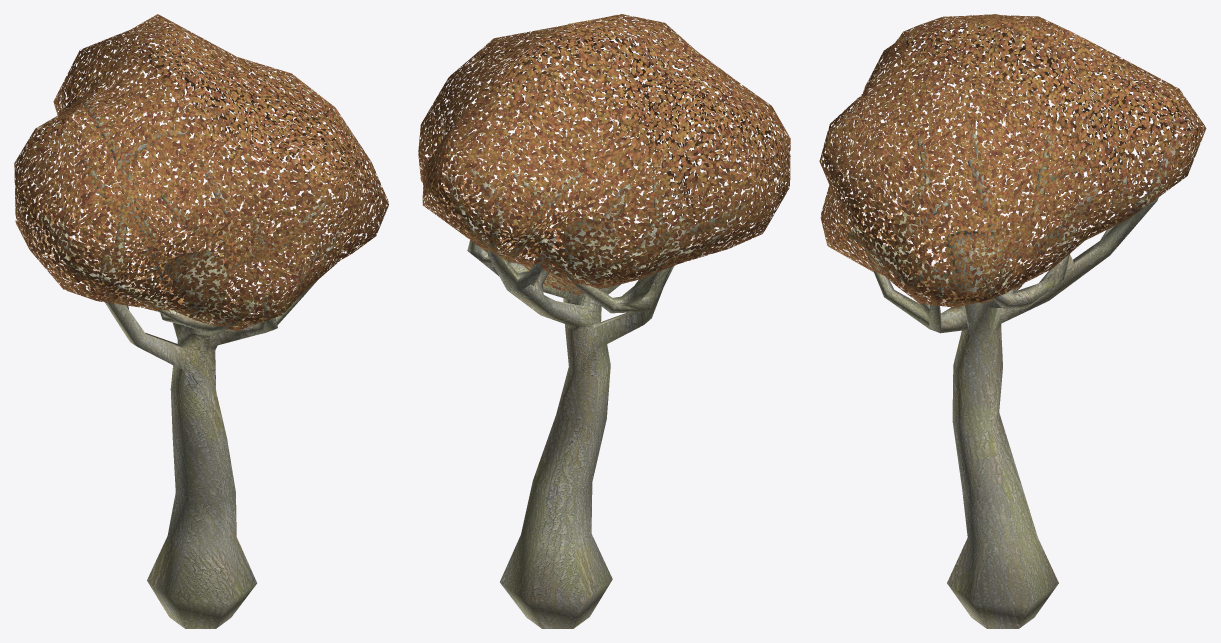
Rendered from tree.fbx.
The picture shows the model from 3 angles, left to right: view 1: azimuth 30°, elevation 25°; view 2: azimuth 150°, elevation 25°; view 3: azimuth 270°, elevation 25°; orthographic projection. The views are drawn at different scales.
Visible parts, largest first — view 1: Leaves, Trunk; view 2: Leaves, Trunk; view 3: Leaves, Trunk.
Boxes of the visible parts, x1=… form: Leaves: x1=14, y1=14, x2=388, y2=331; Trunk: x1=40, y1=98, x2=345, y2=628; Leaves: x1=418, y1=14, x2=790, y2=294; Trunk: x1=444, y1=162, x2=746, y2=628; Leaves: x1=819, y1=14, x2=1206, y2=307; Trunk: x1=848, y1=122, x2=1180, y2=628.
Size of the model in its own units: 1882 by 3060 by 1825.
